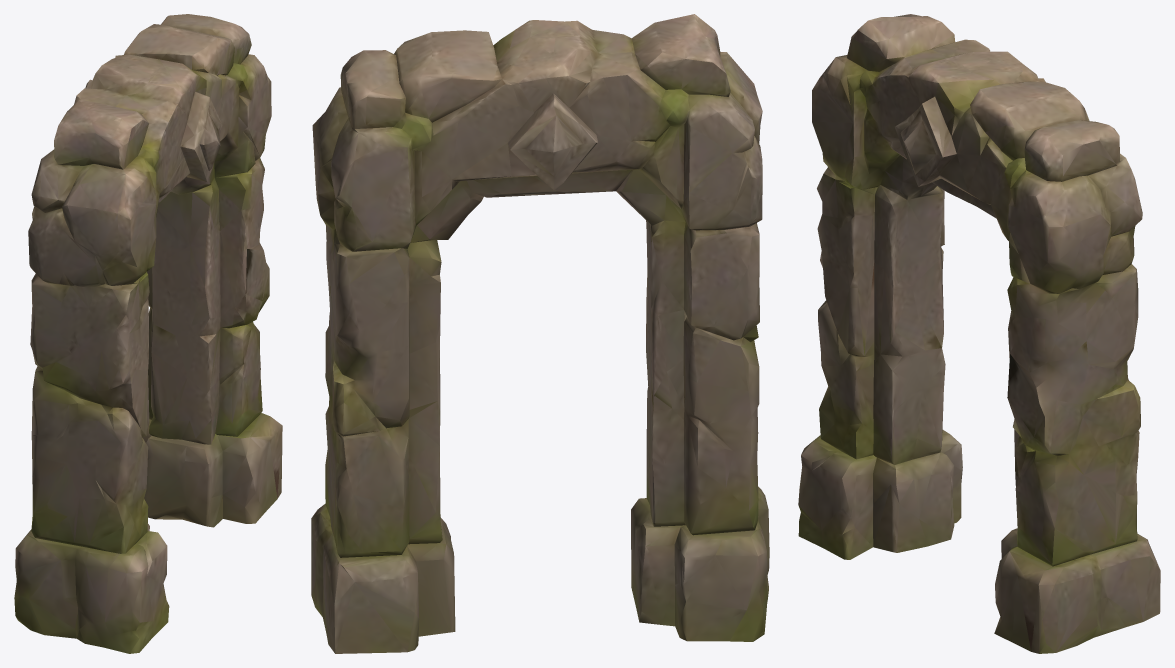
File: puerta_llave_marco.glb
3 views of the same model, side by side, from view 1: azimuth 30°, elevation 25°; view 2: azimuth 150°, elevation 25°; view 3: azimuth 270°, elevation 25° (orthographic). The views are drawn at different scales.
Visible parts, largest first — view 1: puerta_llave_marco_malla; view 2: puerta_llave_marco_malla; view 3: puerta_llave_marco_malla.
Part boxes in pixels (box(x1,y1,x2,y2)): puerta_llave_marco_malla: box(14, 14, 282, 653); puerta_llave_marco_malla: box(311, 14, 769, 653); puerta_llave_marco_malla: box(798, 14, 1160, 653).
Size of the model in its own units: 0.3053 by 0.4515 by 0.2825.
Materials: 1 (1 with a texture image).
